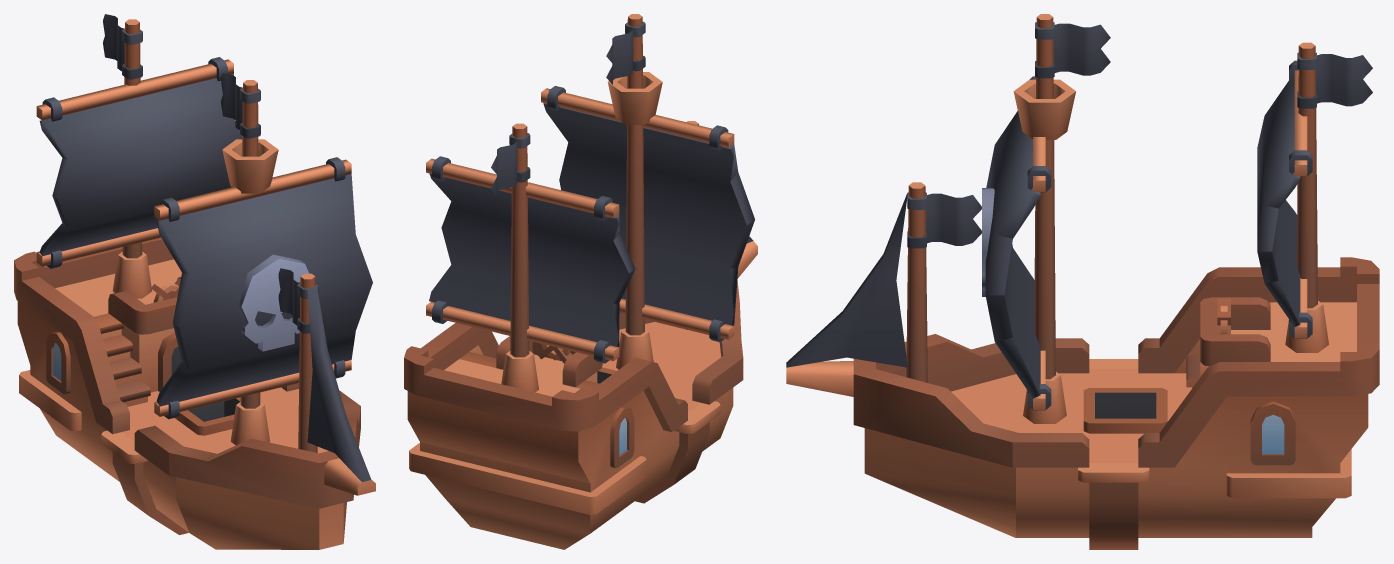
The model's file is kenney-pirate-ship-pirate-medium.glb.
3 renders of one model, left to right at view 1: azimuth 30°, elevation 25°; view 2: azimuth 150°, elevation 25°; view 3: azimuth 270°, elevation 25°, orthographic. The views are drawn at different scales.
Visible parts, largest first — view 1: ship-pirate-medium; view 2: ship-pirate-medium; view 3: ship-pirate-medium.
Part boxes in pixels (<box>): ship-pirate-medium: <box>14,14,375,549</box>; ship-pirate-medium: <box>404,14,757,549</box>; ship-pirate-medium: <box>786,14,1379,549</box>.
Bounding box in the file's own units: 4.8 × 9.96 × 10.6.
1 material, 1 textured.
